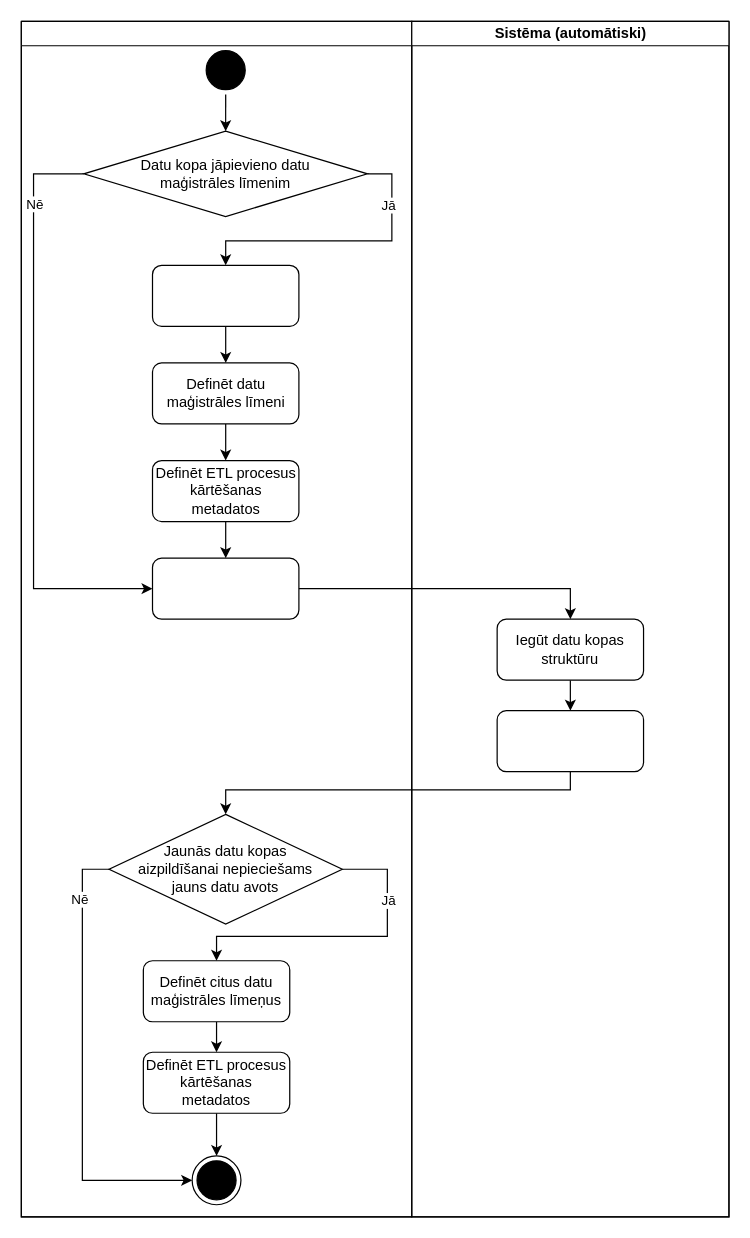
This 750x1238 diagram has some shape labels left out. Here are the shapes that lost their labels. From the top down, the box of each, then its label:
(151, 264, 299, 326): Aprakstīt jaunās datu kopas (datu vienības) struktūru metadatos
(151, 557, 299, 619): Pievienot datu kopas piemērus
(20, 20, 412, 1217): Izstrādātājs (manuāli)
(496, 709, 644, 772): Pievienot datu kopu pirmajam datu maģistrāles līmenim
